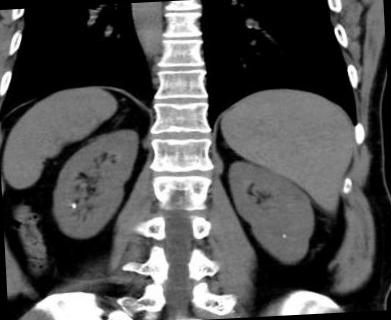Tas_Var: (278, 230, 290, 240), (66, 201, 78, 211)
